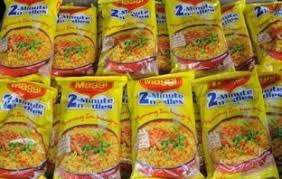maggi: (9, 7, 274, 179)
